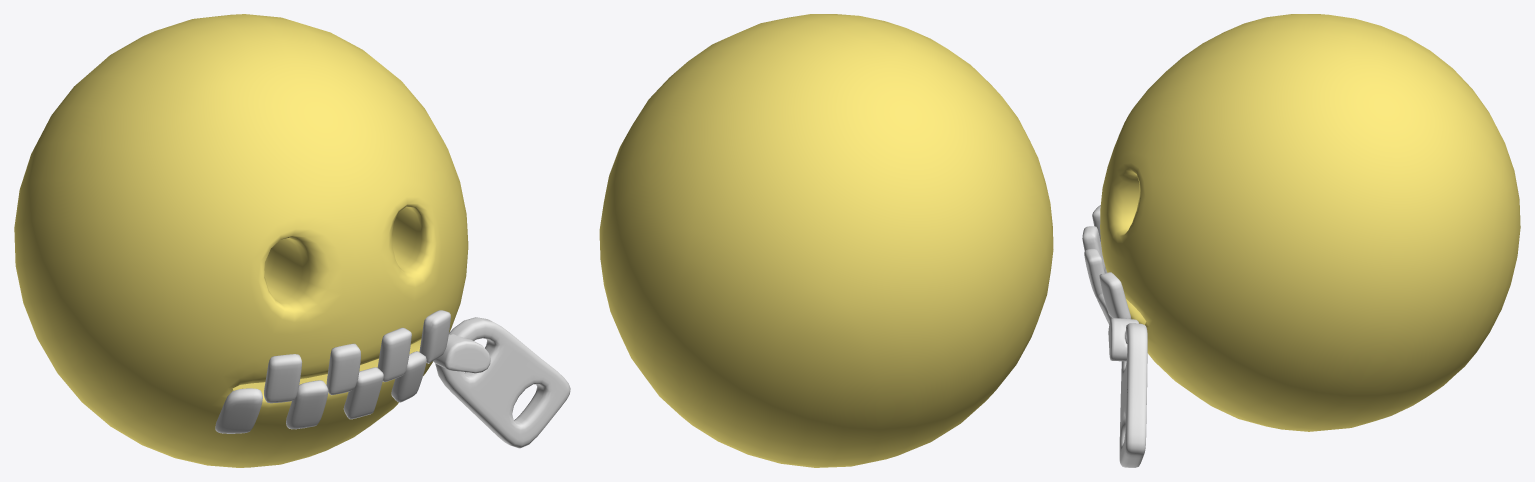
Rendered from 33_zipper.glb.
The picture shows the model from 3 angles, left to right: view 1: azimuth 30°, elevation 25°; view 2: azimuth 150°, elevation 25°; view 3: azimuth 270°, elevation 25°; orthographic projection. The views are drawn at different scales.
Visible parts, largest first — view 1: Group13488, Group64639, Group65023, Group7, Group10, Group29051, Group65025, Group65024, ZBrush_defualt_group034, Group65022, Group9; view 2: Group13488; view 3: Group13488, Group64639, Group65022, Group29051, Group65024, Group65025.
Part boxes in pixels (box(x1,y1,x2,y2)): Group13488: box(14, 14, 468, 467); Group64639: box(435, 317, 570, 448); Group65023: box(215, 388, 262, 433); Group7: box(264, 354, 302, 403); Group10: box(286, 380, 328, 429); Group29051: box(433, 334, 490, 373); Group65025: box(326, 343, 360, 395); Group65024: box(377, 327, 411, 382); ZBrush_defualt_group034: box(343, 367, 383, 419); Group65022: box(419, 310, 450, 363); Group9: box(391, 351, 426, 402); Group13488: box(599, 14, 1053, 467); Group13488: box(1100, 14, 1520, 431); Group64639: box(1119, 323, 1147, 467); Group65022: box(1099, 272, 1131, 318); Group29051: box(1108, 318, 1138, 361); Group65024: box(1084, 248, 1104, 299); Group65025: box(1082, 226, 1105, 270).
Size of the model in its own units: 0.6188 by 0.5699 by 0.5963.
